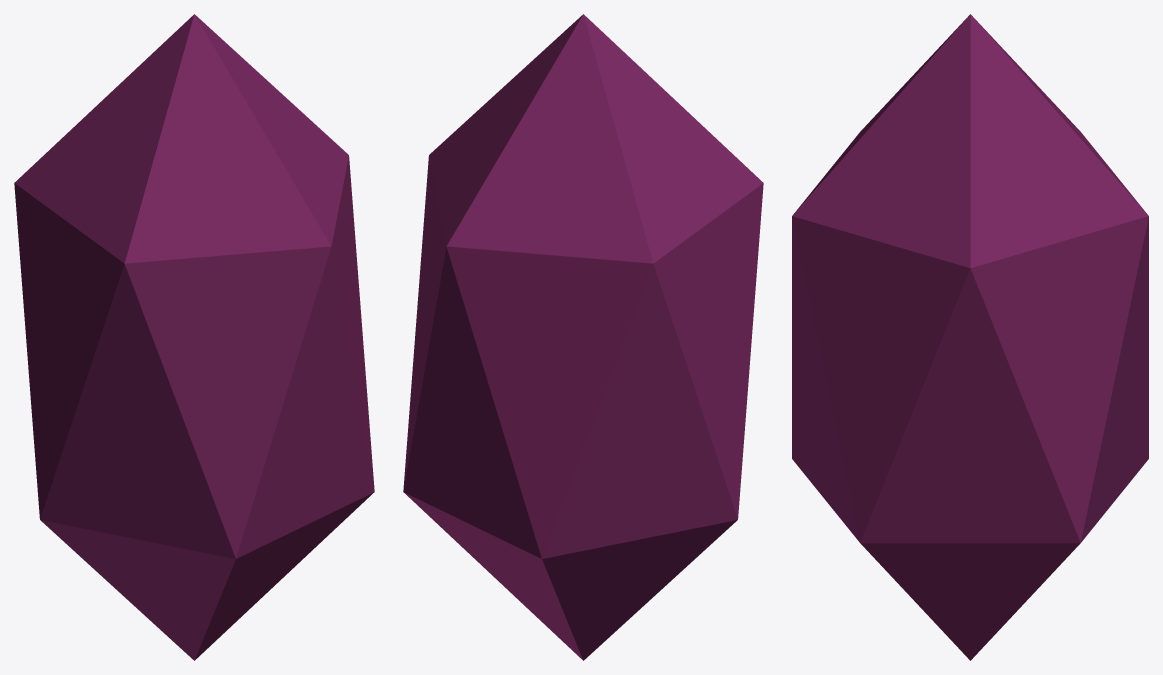
The model's file is diamond.fbx.
3 renders of one model, left to right at view 1: azimuth 30°, elevation 25°; view 2: azimuth 150°, elevation 25°; view 3: azimuth 270°, elevation 25°, orthographic.
Parts seen in each view (by area): view 1: Icosphere; view 2: Icosphere; view 3: Icosphere.
Boxes of the visible parts, x1,y1,x2,y2 form: Icosphere: (14,14,374,660); Icosphere: (403,14,763,660); Icosphere: (792,14,1148,660).
Size of the model in its own units: 50 by 100 by 50.
